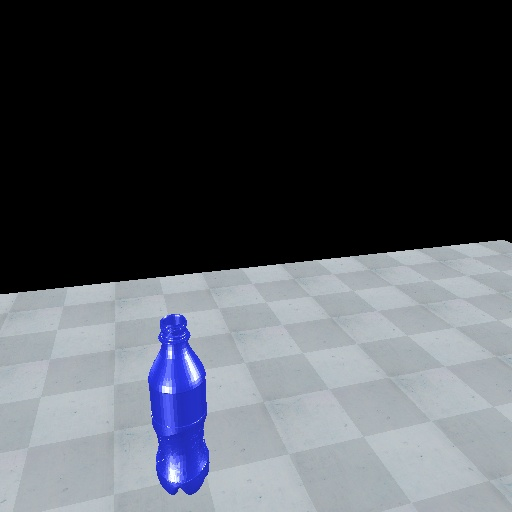bottle: (143, 311, 212, 498)
